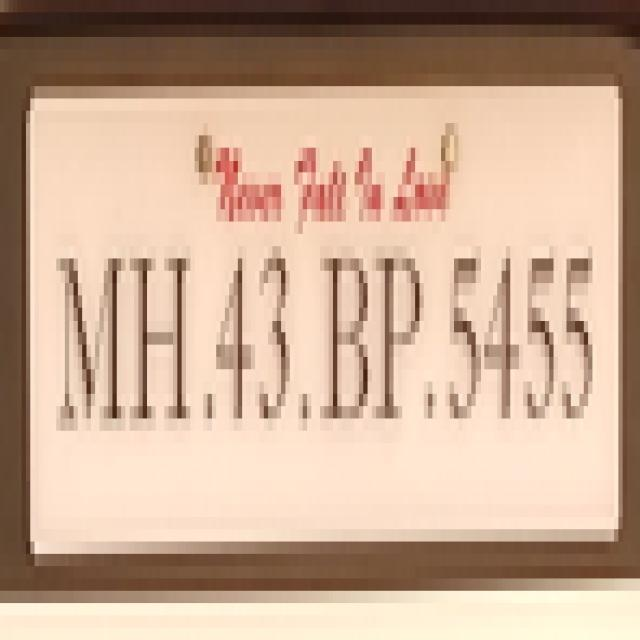4: (206, 246, 257, 436), (484, 252, 524, 445)
B: (320, 239, 374, 441)
H: (135, 238, 188, 450)
M: (50, 225, 132, 452), (259, 252, 293, 431)
P: (377, 246, 427, 426), (442, 244, 482, 443), (563, 251, 603, 434), (527, 246, 561, 436)
